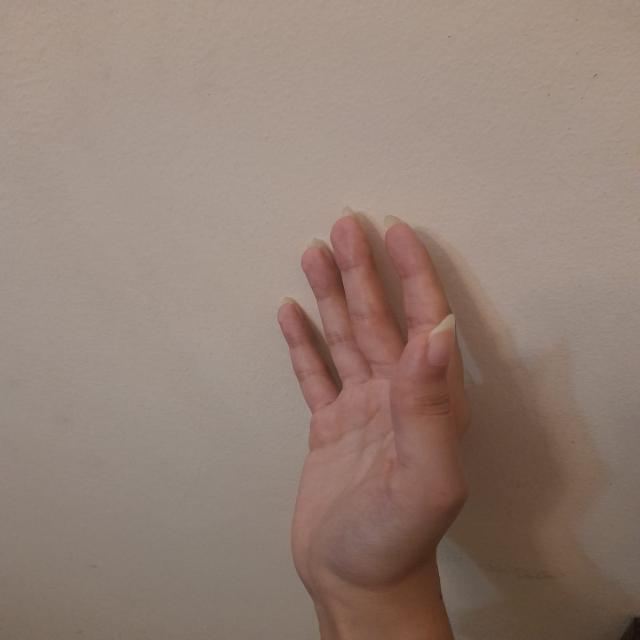Open Hand: (278, 214, 464, 586)
